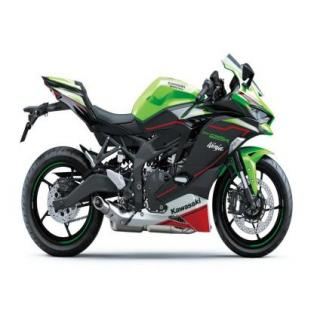Motocicleta: (16, 54, 295, 263)
